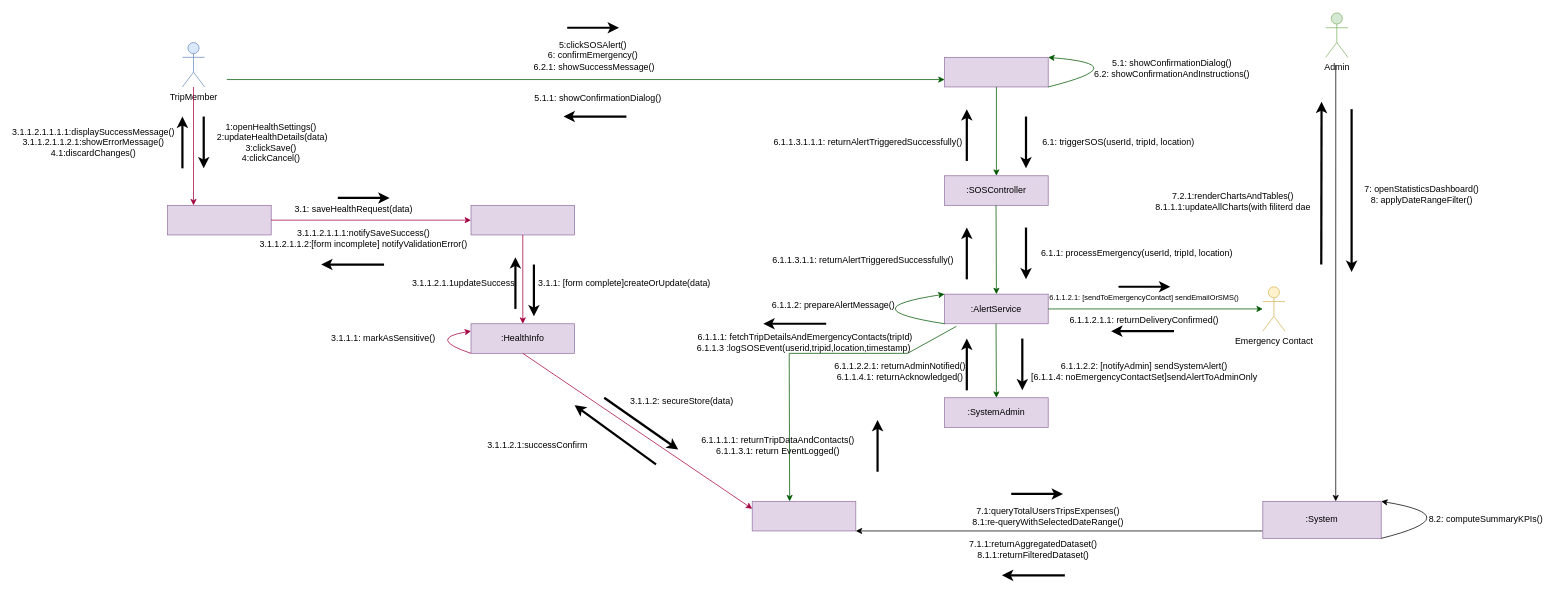
This 1557x595 diagram has some shape labels left out. Each missing label, with the box of its shape:
:Database: (751, 501, 856, 531)
:HealthInfoController: (470, 205, 575, 235)
:HealthSettingsPage: (167, 205, 271, 235)
:TripDashboard: (944, 57, 1048, 87)
